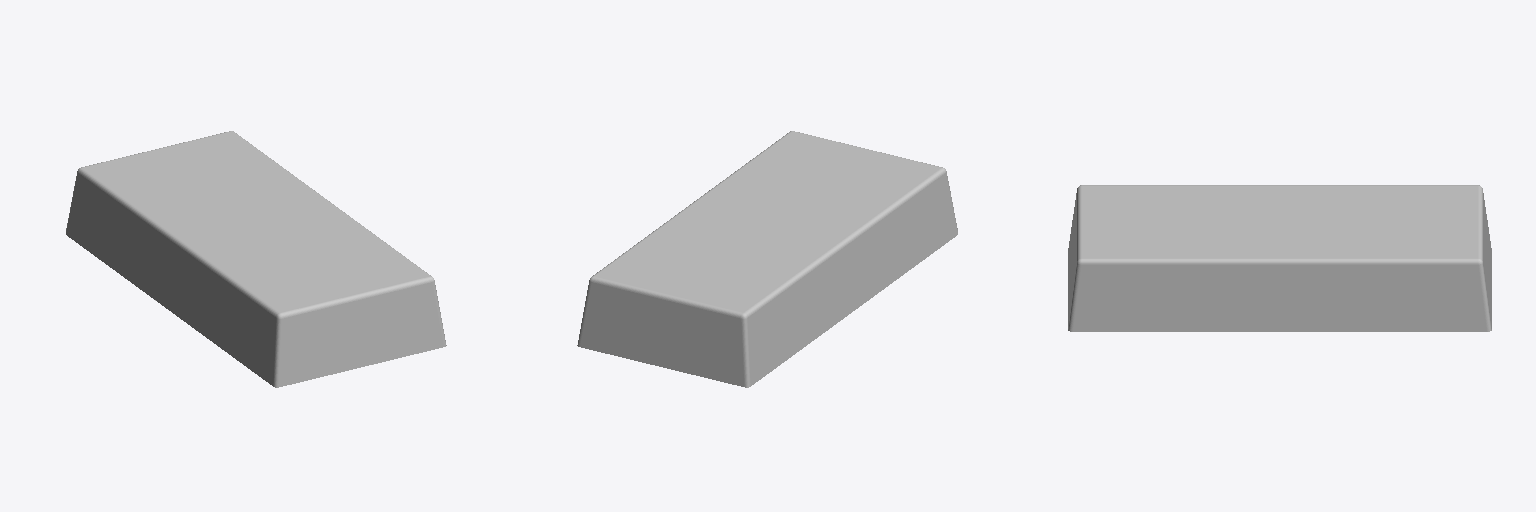
Rendered from A-316-2_Maya.obj.
3 renders of one model, left to right at view 1: azimuth 30°, elevation 25°; view 2: azimuth 150°, elevation 25°; view 3: azimuth 270°, elevation 25°, orthographic.
Visible parts, largest first — view 1: Rectangle001; view 2: Rectangle001; view 3: Rectangle001.
Boxes of the visible parts, x1=… form: Rectangle001: x1=66, y1=131, x2=446, y2=387; Rectangle001: x1=577, y1=131, x2=957, y2=387; Rectangle001: x1=1068, y1=185, x2=1491, y2=331.
Bounding box in the file's own units: 40 × 15 × 85.